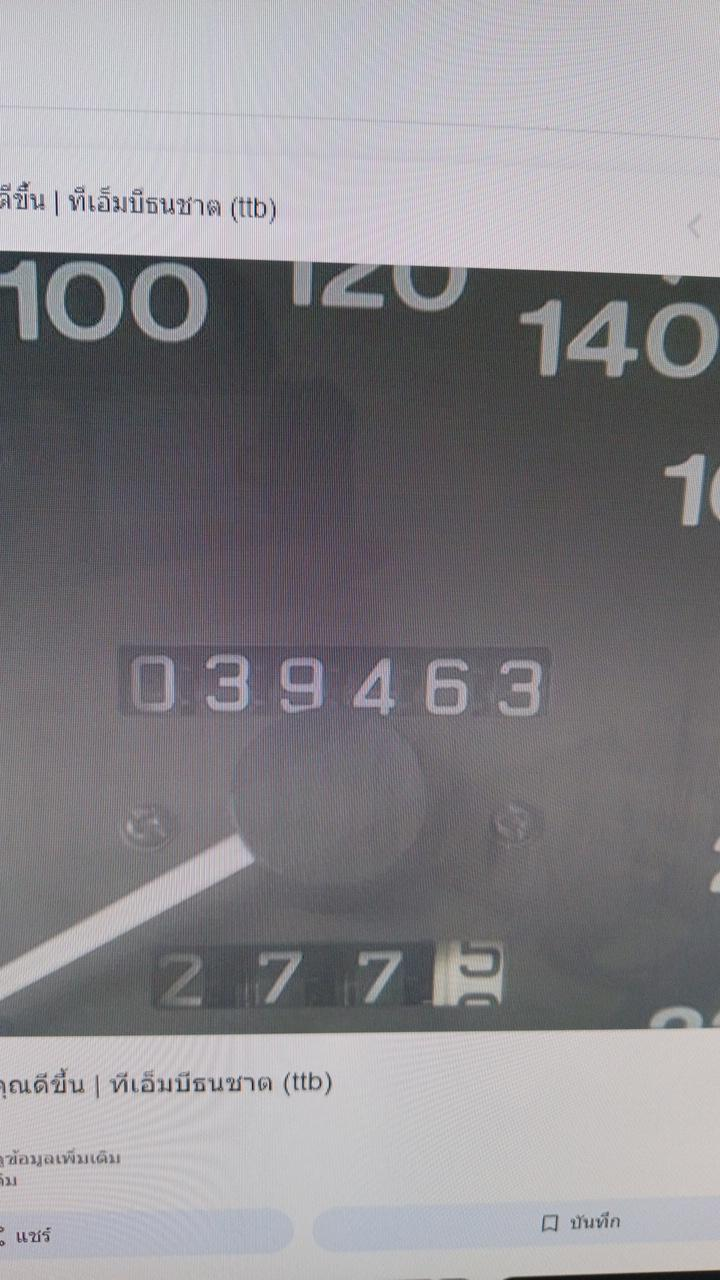0: (130, 654, 177, 714)
3: (203, 653, 250, 714), (498, 660, 542, 717)
4: (352, 656, 396, 716)
6: (426, 657, 470, 716)
9: (280, 656, 324, 715)
odometer: (117, 642, 552, 721)
